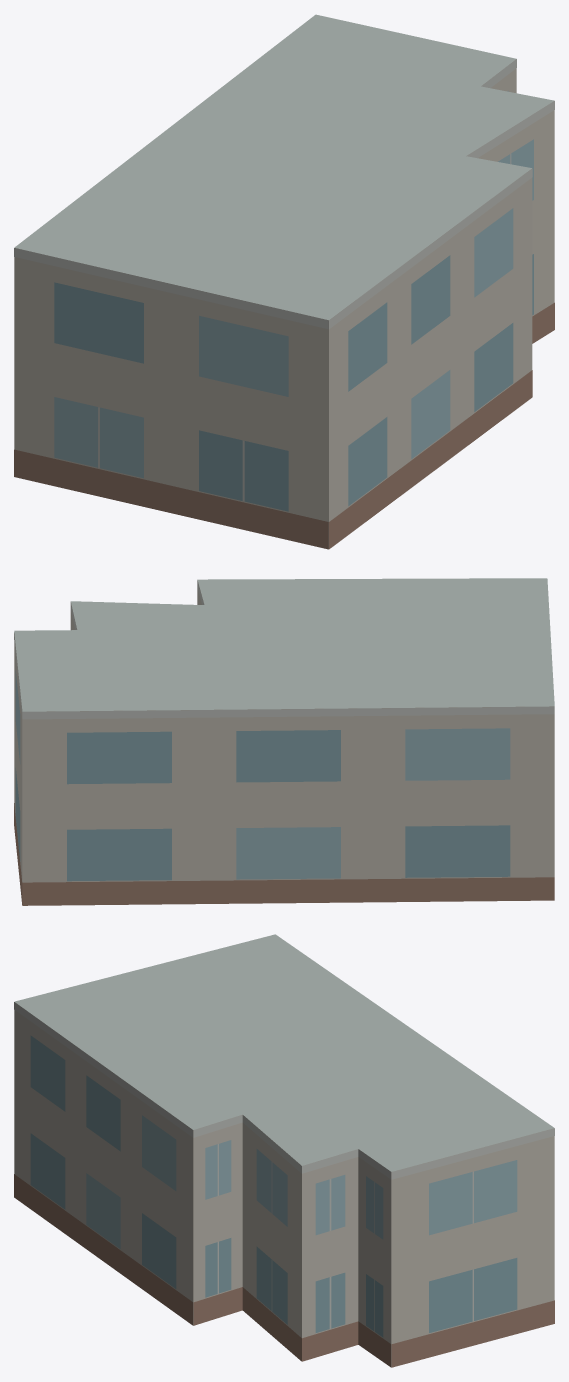
The model's file is survey-upis-32606050.glb.
3 views of the same model, one above another, from view 1: azimuth 30°, elevation 25°; view 2: azimuth 150°, elevation 25°; view 3: azimuth 270°, elevation 25° (orthographic). The views are drawn at different scales.
Visible parts, largest first — view 1: survey-upis-32606050.tmp; view 2: survey-upis-32606050.tmp; view 3: survey-upis-32606050.tmp.
Boxes of the visible parts, <box> form: survey-upis-32606050.tmp: <box>14,14,554,549</box>; survey-upis-32606050.tmp: <box>14,578,554,905</box>; survey-upis-32606050.tmp: <box>14,934,554,1367</box>.
Bounding box in the file's own units: 15.9 × 6.1 × 15.28.
